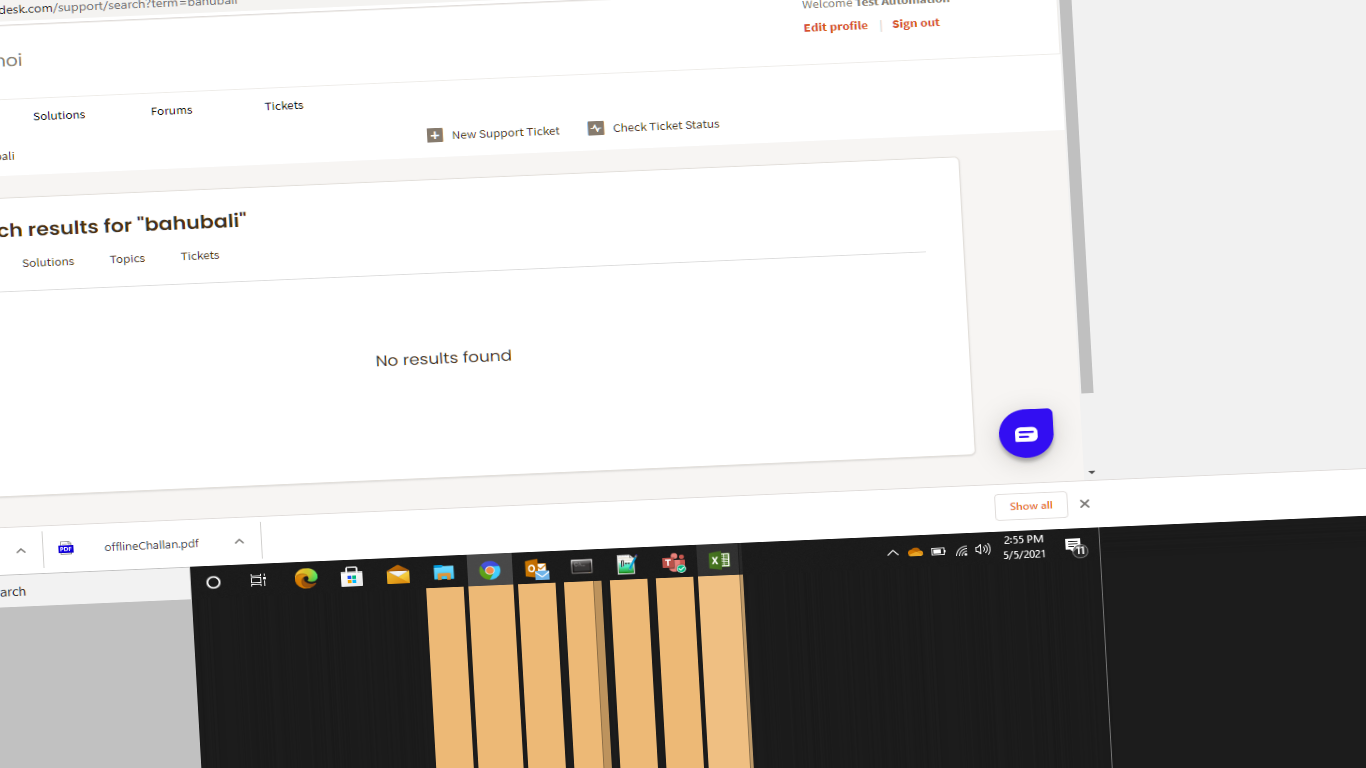noresultsfound: (330, 328, 541, 378)
profileicon: (792, 16, 875, 41)
searchtextbox: (1, 139, 107, 174)
